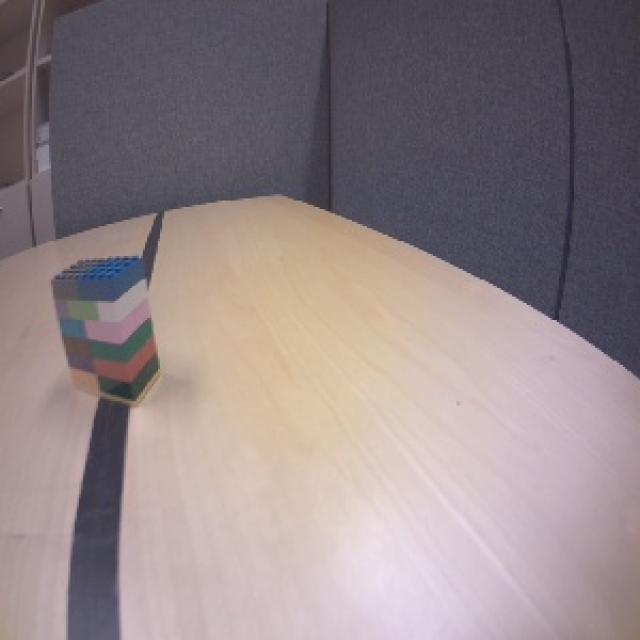obstacle: (46, 253, 166, 409)
